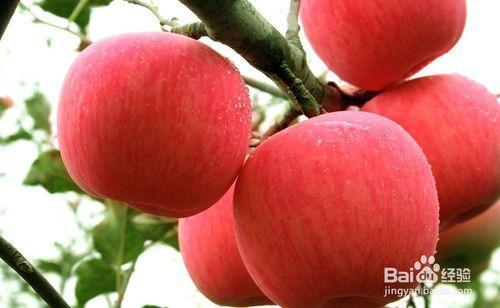apple: (232, 112, 438, 306), (53, 34, 251, 225), (361, 75, 500, 231), (298, 1, 466, 93), (178, 153, 270, 304)
